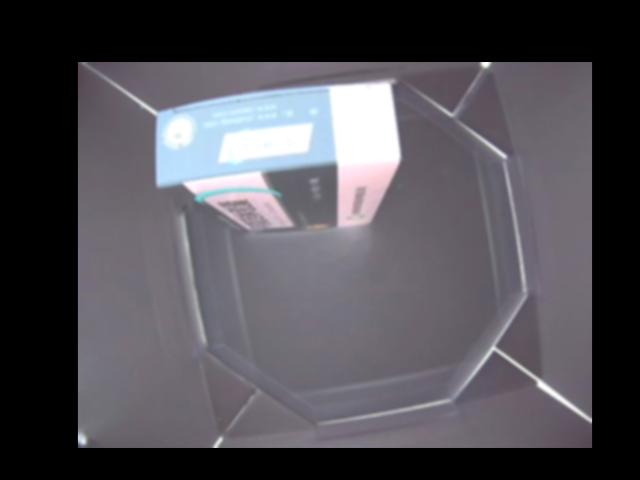Medicine: (154, 83, 400, 231)
